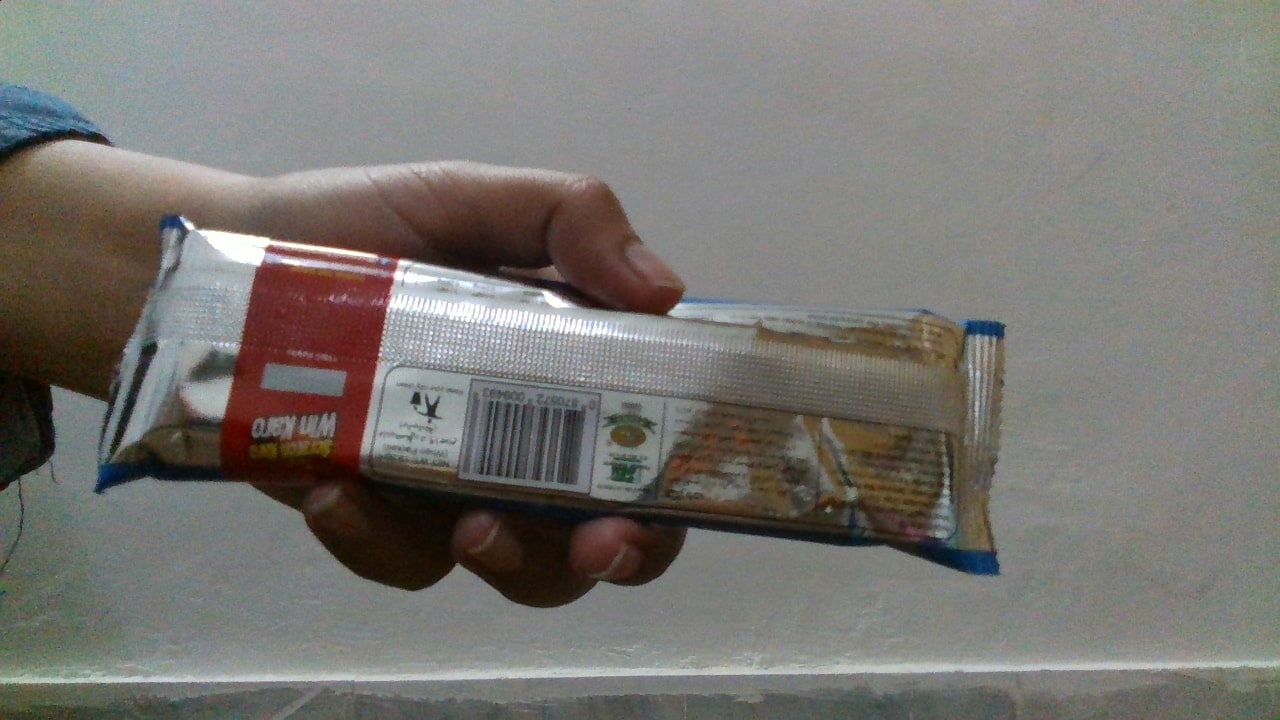Barcode: (456, 382, 586, 490)
